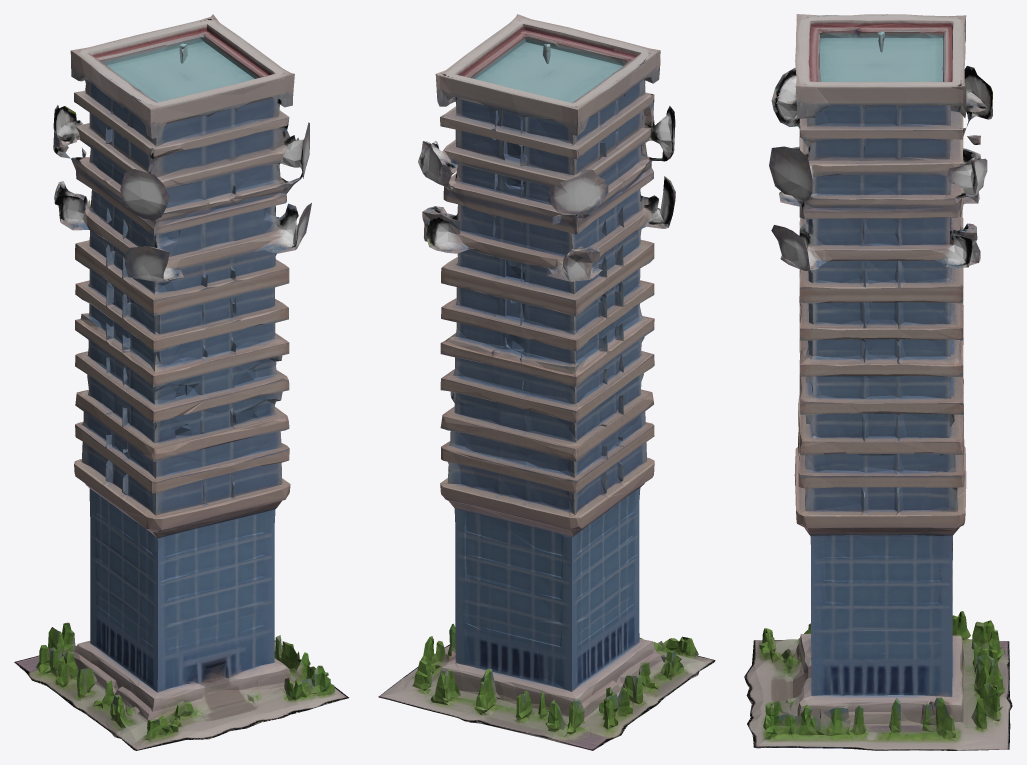
File: tower2.glb
The picture shows the model from 3 angles, left to right: view 1: azimuth 30°, elevation 25°; view 2: azimuth 150°, elevation 25°; view 3: azimuth 270°, elevation 25°; orthographic projection. The views are drawn at different scales.
Parts seen in each view (by area): view 1: world; view 2: world; view 3: world.
Part boxes in pixels (bbox=[...]): world: bbox=[14, 14, 348, 750]; world: bbox=[378, 14, 715, 750]; world: bbox=[744, 14, 1012, 750].
Bounding box in the file's own units: 0.364 × 0.9991 × 0.3661.
Materials: 1 (1 with a texture image).
